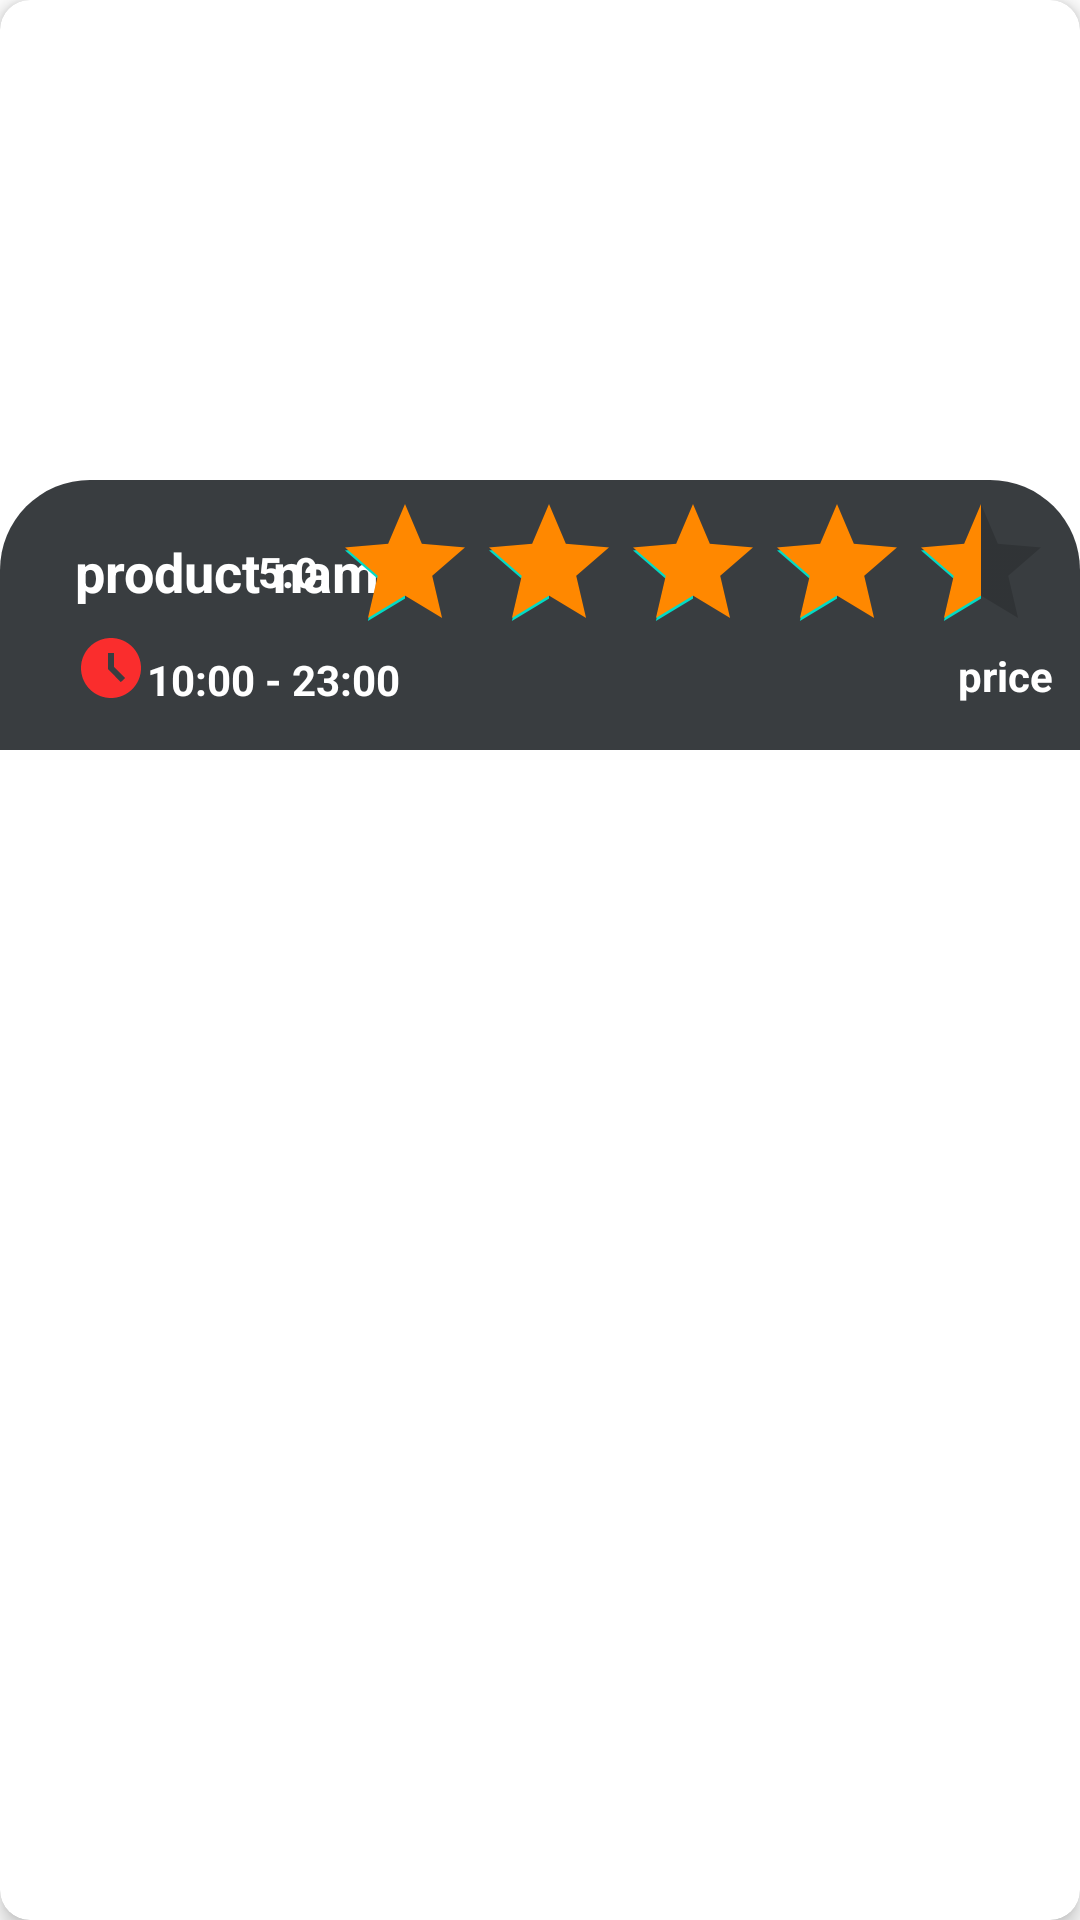

Screen size 1080x1920. Icon name, then its center in pixels as [x,y]:
access time: [111,668]
